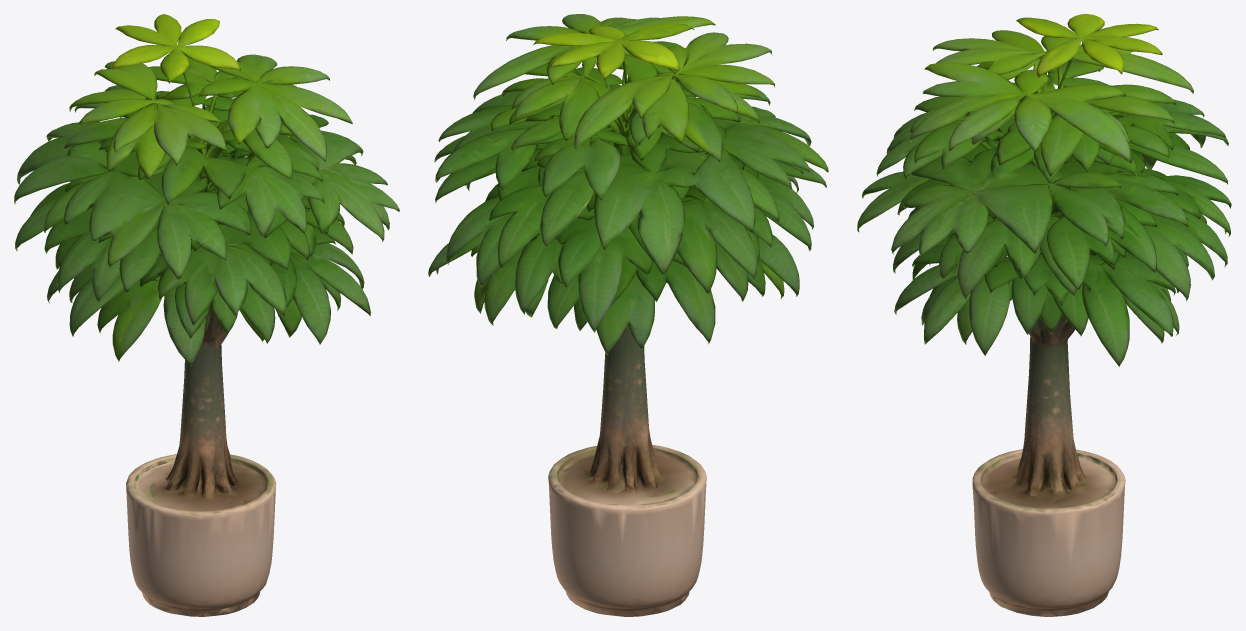
The model's file is SM_F_MoneyTree_02.glb.
3 renders of one model, left to right at view 1: azimuth 30°, elevation 25°; view 2: azimuth 150°, elevation 25°; view 3: azimuth 270°, elevation 25°, orthographic. The views are drawn at different scales.
Parts seen in each view (by area): view 1: SM_F_MoneyTree_02; view 2: SM_F_MoneyTree_02; view 3: SM_F_MoneyTree_02.
Part boxes in pixels (bbox=[...]): SM_F_MoneyTree_02: bbox=[14, 14, 399, 616]; SM_F_MoneyTree_02: bbox=[428, 14, 828, 616]; SM_F_MoneyTree_02: bbox=[857, 14, 1231, 616].
Size of the model in its own units: 0.7289 by 1.15 by 0.7041.
Materials: 1 (1 with a texture image).
